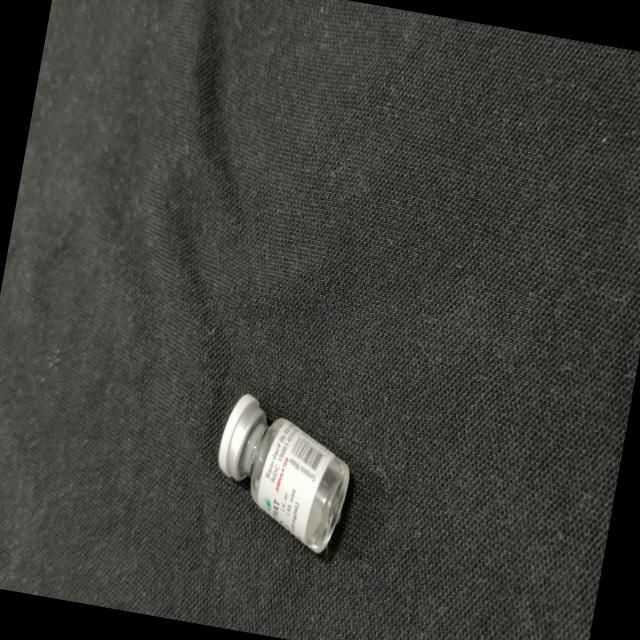fentanl_citrat: (205, 393, 358, 555)
